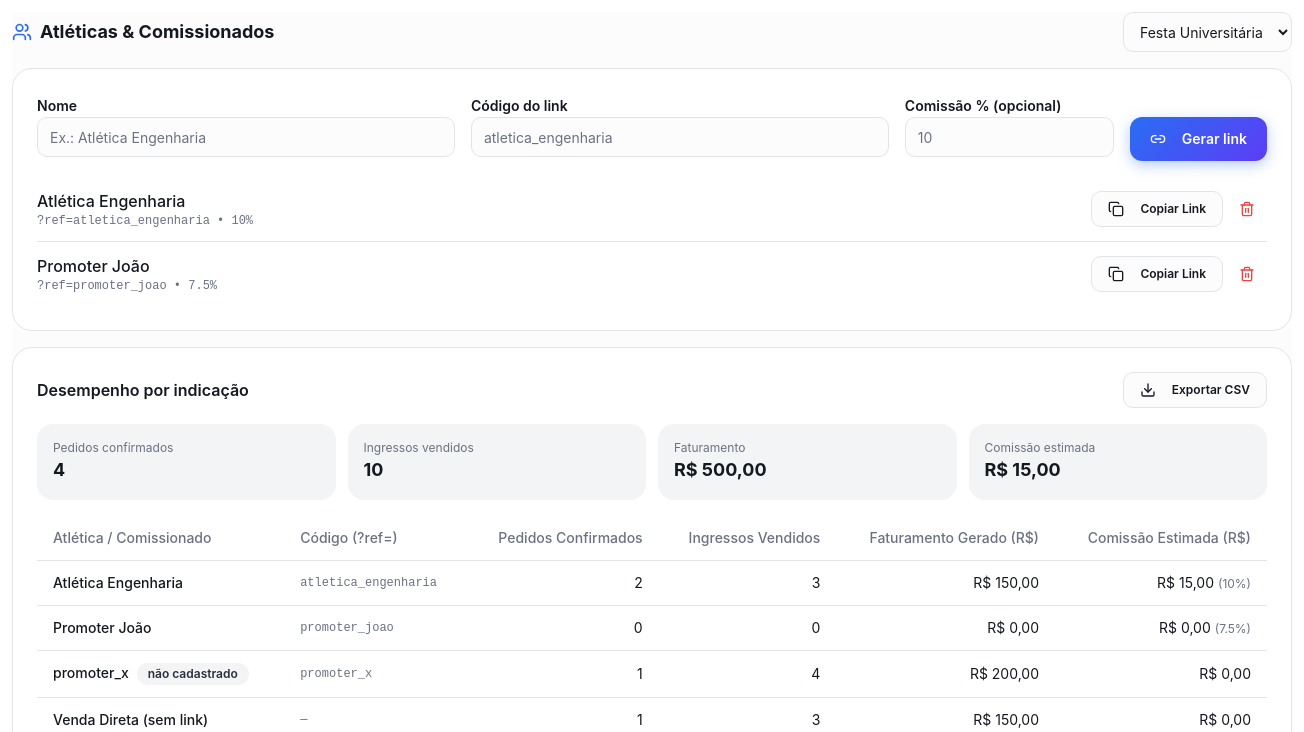
Atléticas & Comissionados — gerador de link › comissão inválida mostra erro, e corrigir limpa só esse erro
The width and height of the screenshot is (1304, 732).
Type "Atlética Nova" into the field with id "affiliate-name". click: [246, 137]
box: top-left (37, 117), bottom-right (455, 157)
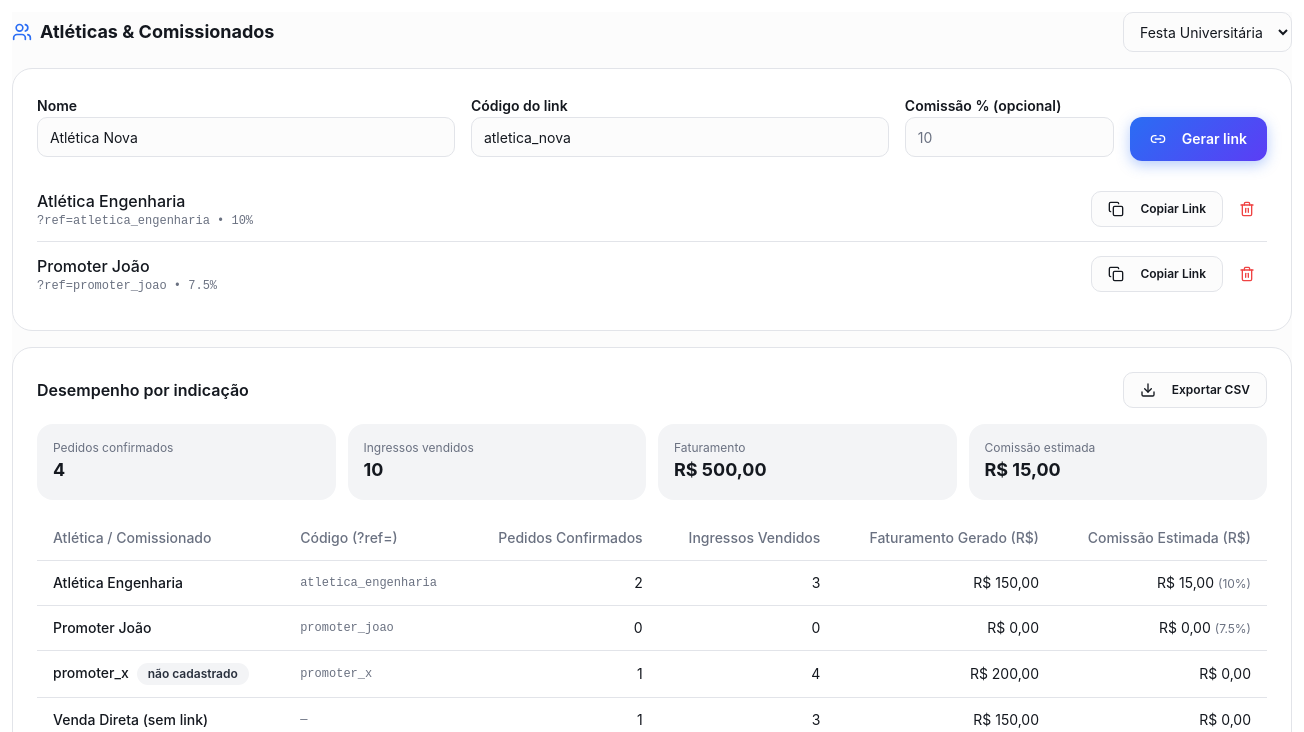
Type "150" into the field with id "affiliate-commission". click: [1009, 137]
box: top-left (905, 117), bottom-right (1114, 157)
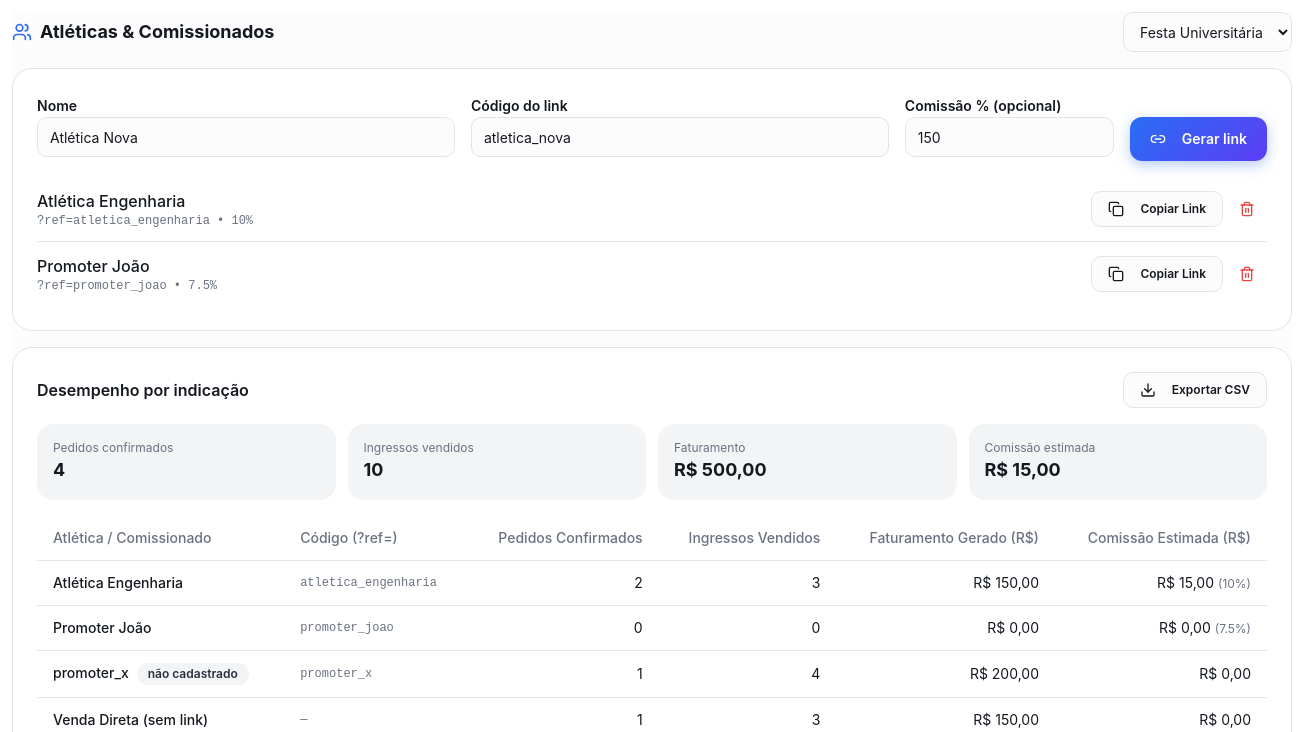
Click the button "Gerar link". click: [1198, 139]
box: top-left (1130, 117), bottom-right (1267, 161)
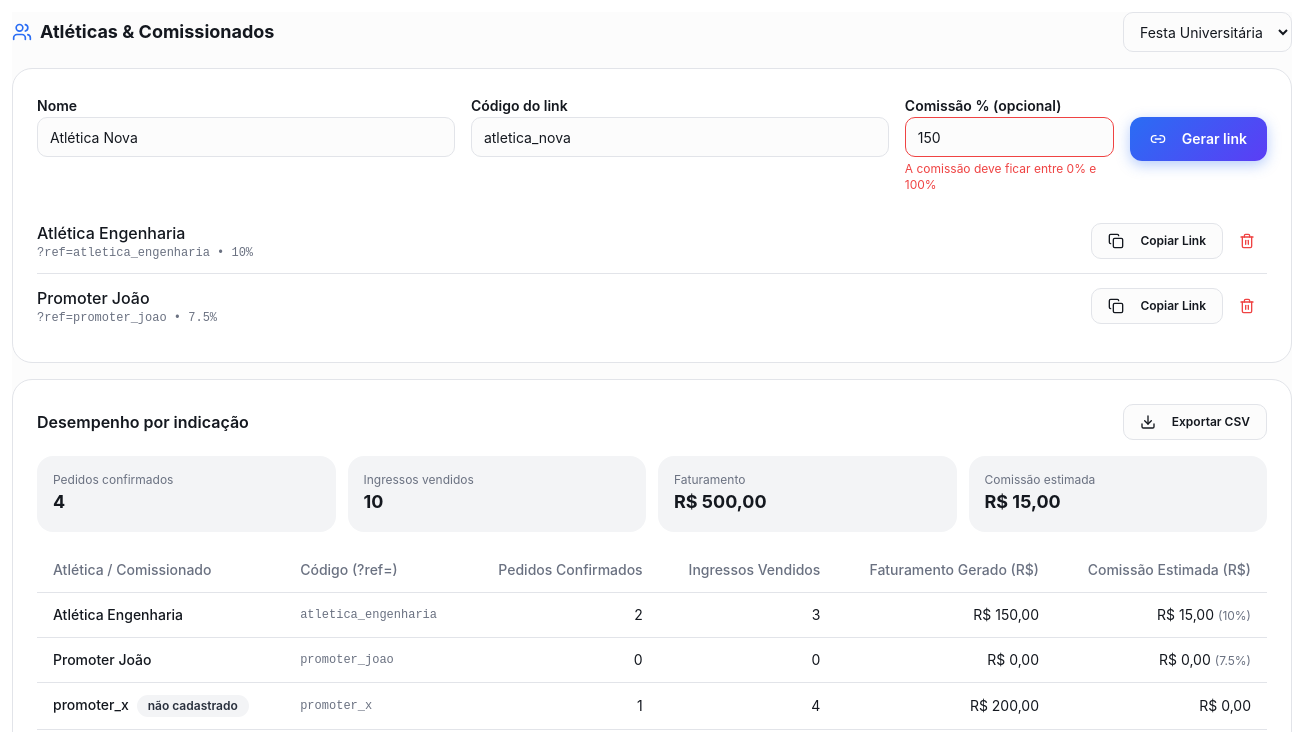
Check: the text "A comissão deve ficar entre 0% e 100%" is shown, box top-left (905, 161), bottom-right (1114, 193)
Replace the text in the field with id "affiliate-commission" with "7,5". click: [1009, 137]
box: top-left (905, 117), bottom-right (1114, 157)
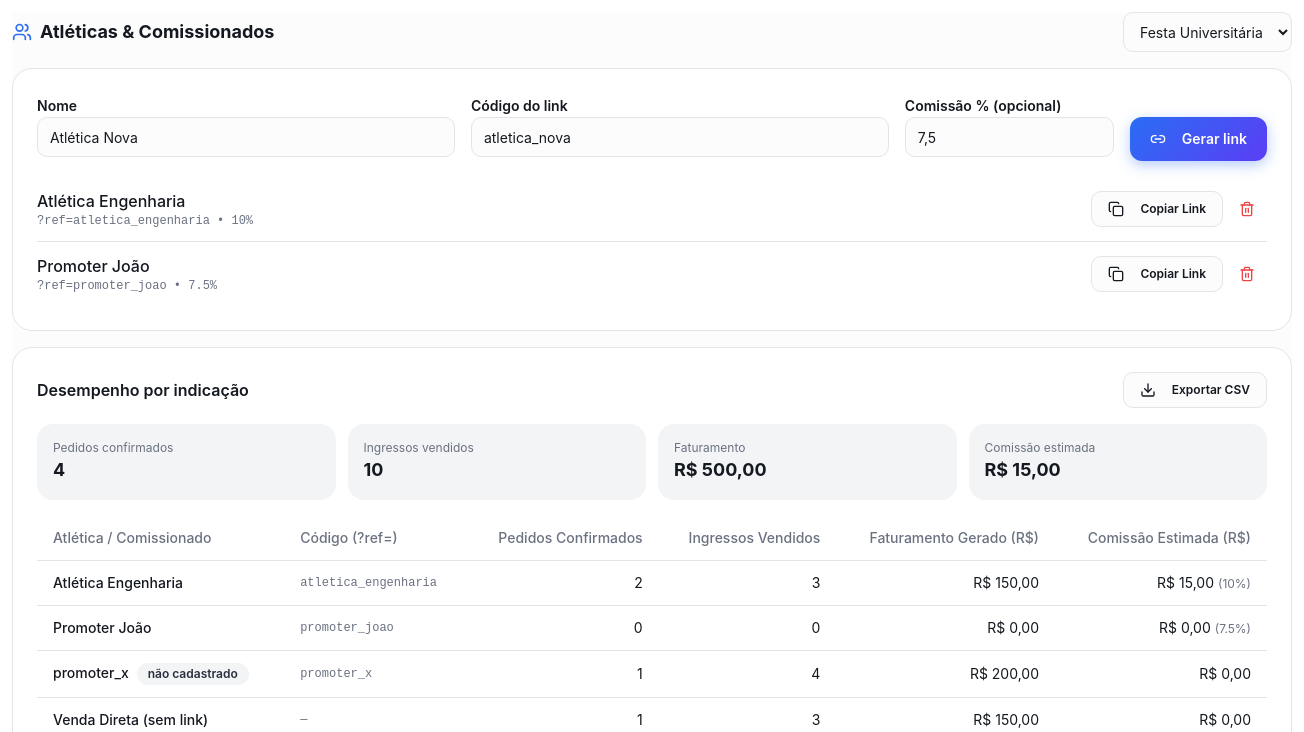
Check: the text "A comissão deve ficar entre 0% e 100%" is gone
